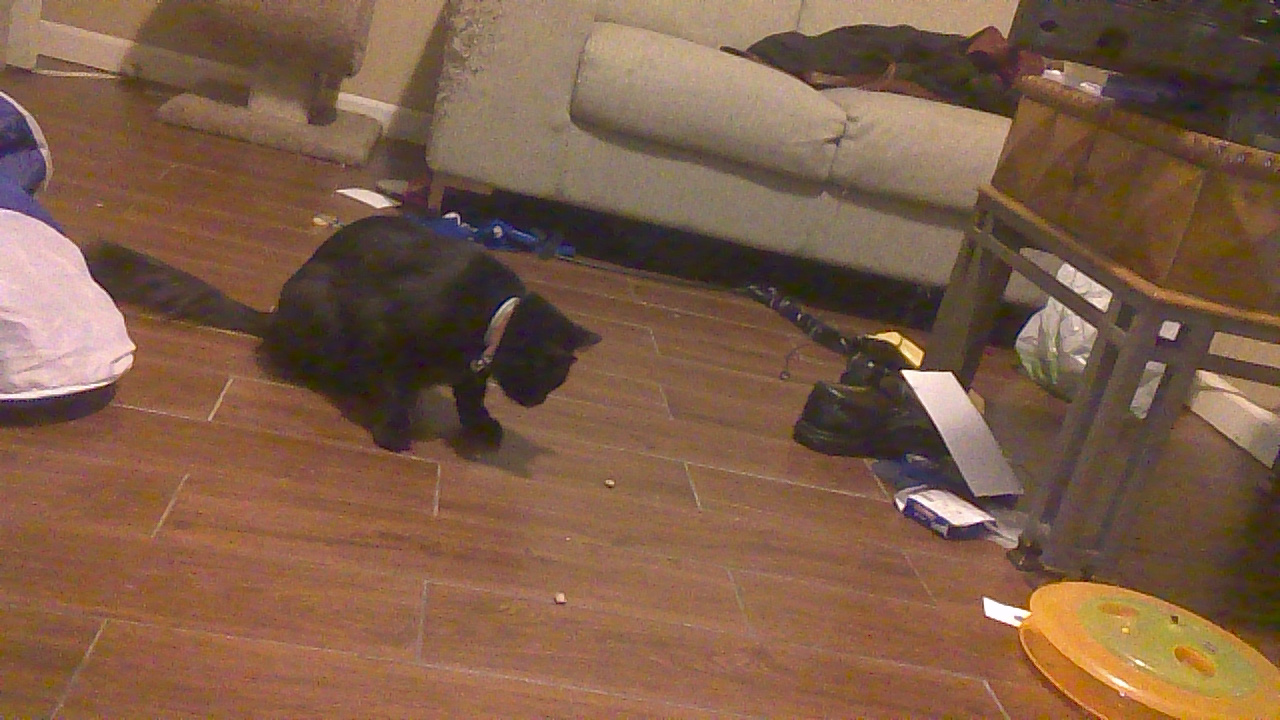cat: (79, 206, 604, 457)
